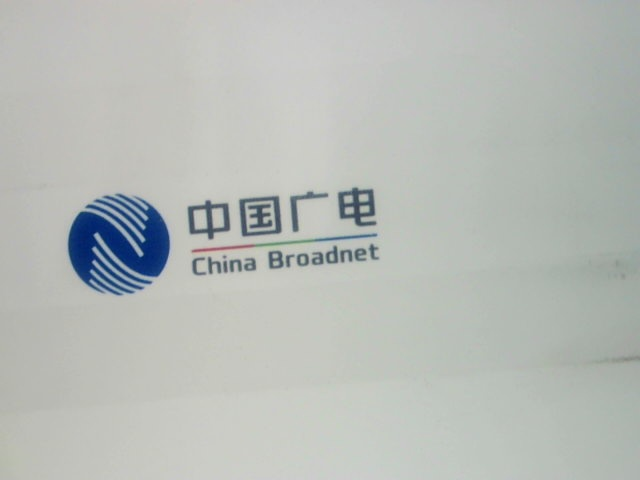AW_ChinaBroadNet: (65, 184, 385, 296)
